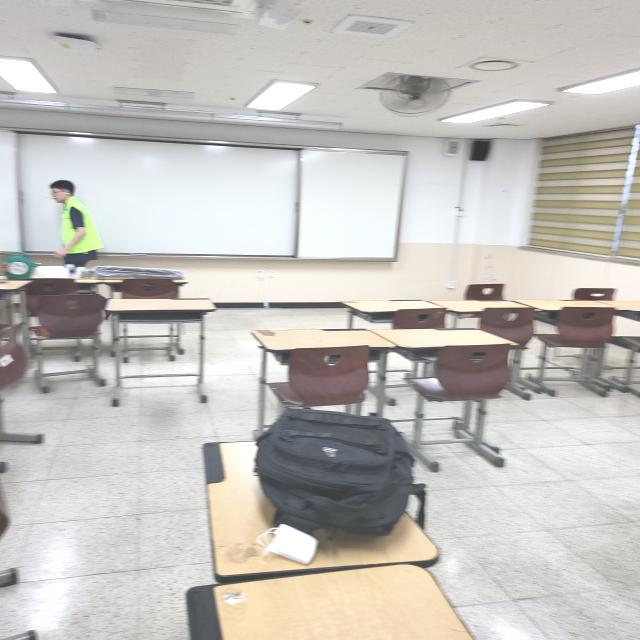weston_spy: (54, 188, 107, 258)
